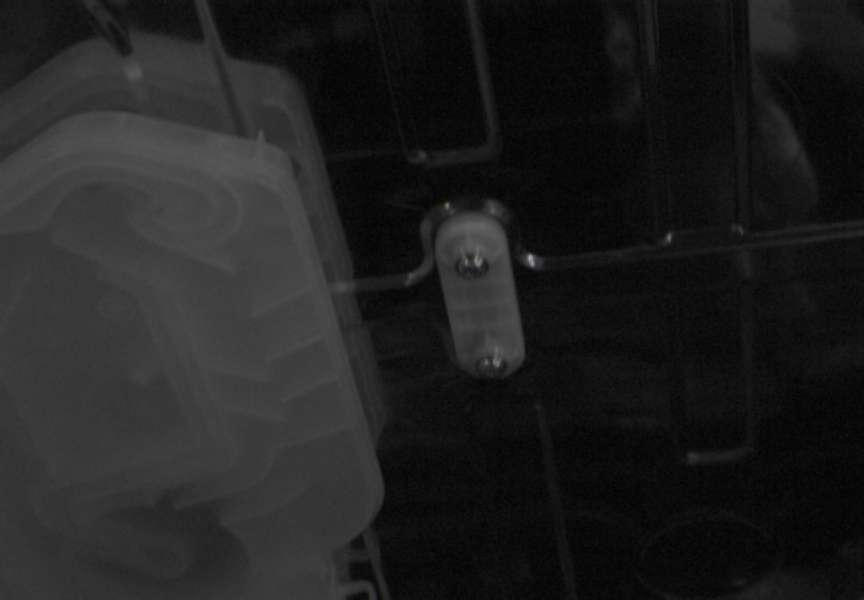screw: (455, 252, 489, 279), (475, 352, 508, 379)
